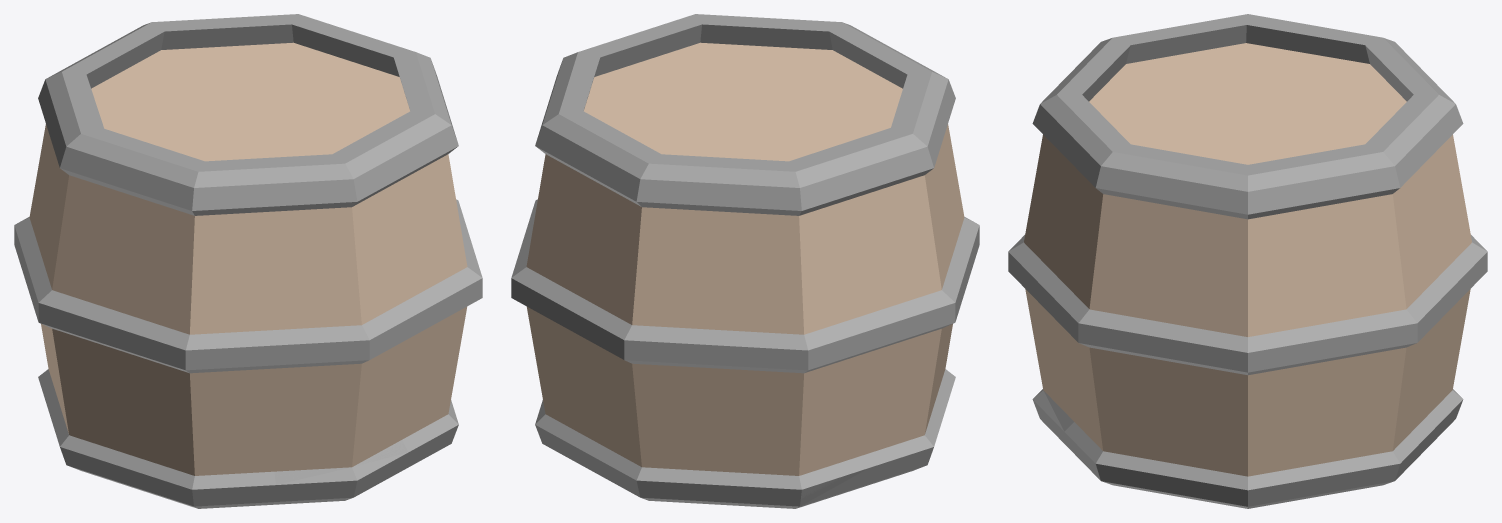
The model's file is Tonneau_2_Fractured.FBX.
The picture shows the model from 3 angles, left to right: view 1: azimuth 30°, elevation 25°; view 2: azimuth 150°, elevation 25°; view 3: azimuth 270°, elevation 25°; orthographic projection.
Parts seen in each view (by area): view 1: Cylinder001, Cylinder001_cell.005, Cylinder001_cell.015, Cylinder001_cell.011, Cylinder001_cell.001, Cylinder001_cell.002, Cylinder001_cell.013, Cylinder001_cell.009, Cylinder001_cell.006, Cylinder001_cell.014, Cylinder001_cell.003, Cylinder001_cell.008; view 2: Cylinder001, Cylinder001_cell.008, Cylinder001_cell.012, Cylinder001_cell.016, Cylinder001_cell.013, Cylinder001_cell.005, Cylinder001_cell.002, Cylinder001_cell.010, Cylinder001_cell.009, Cylinder001_cell.015; view 3: Cylinder001, Cylinder001_cell.013, Cylinder001_cell.011, Cylinder001_cell.016, Cylinder001_cell.006, Cylinder001_cell.001, Cylinder001_cell.009, Cylinder001_cell.005.
Boxes of the visible parts, x1,y1,x2,y2 form: Cylinder001: (14,18,479,508); Cylinder001_cell.005: (62,136,384,355); Cylinder001_cell.015: (105,330,276,500); Cylinder001_cell.011: (350,125,482,378); Cylinder001_cell.001: (274,302,419,490); Cylinder001_cell.002: (33,284,129,484); Cylinder001_cell.013: (229,14,462,215); Cylinder001_cell.009: (57,28,230,255); Cylinder001_cell.006: (402,365,458,470); Cylinder001_cell.014: (276,461,404,504); Cylinder001_cell.003: (126,473,275,508); Cylinder001_cell.008: (38,324,59,412); Cylinder001: (511,15,979,508); Cylinder001_cell.008: (632,406,869,508); Cylinder001_cell.012: (602,255,941,350); Cylinder001_cell.016: (511,244,635,476); Cylinder001_cell.013: (525,14,750,245); Cylinder001_cell.005: (862,33,979,271); Cylinder001_cell.002: (864,272,966,486); Cylinder001_cell.010: (624,325,928,425); Cylinder001_cell.009: (605,128,937,253); Cylinder001_cell.015: (935,233,979,401); Cylinder001: (1018,14,1487,508); Cylinder001_cell.013: (1100,121,1416,386); Cylinder001_cell.011: (1019,118,1253,415); Cylinder001_cell.016: (1242,230,1464,505); Cylinder001_cell.006: (1065,376,1247,508); Cylinder001_cell.001: (1008,230,1074,436); Cylinder001_cell.009: (1246,24,1418,123); Cylinder001_cell.005: (1032,25,1245,196).
Bounding box in the file's own units: 50.16 × 38.48 × 50.16.
